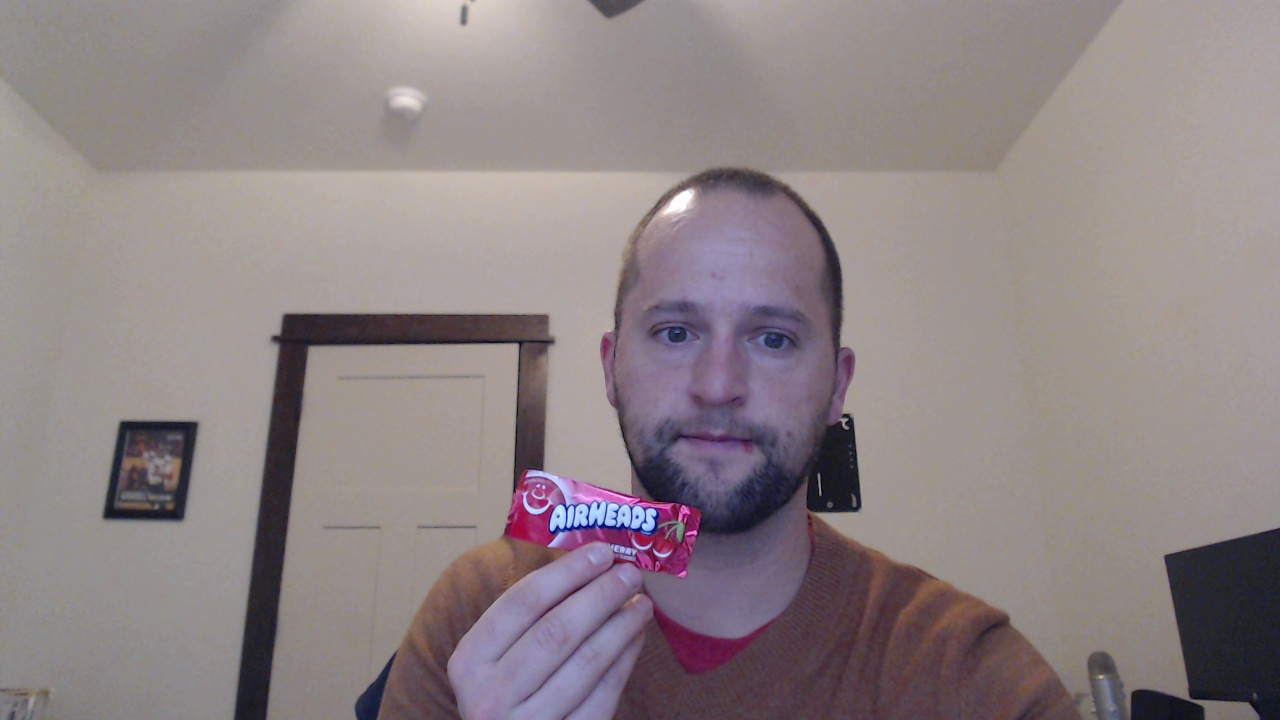airheads: (497, 457, 708, 577)
